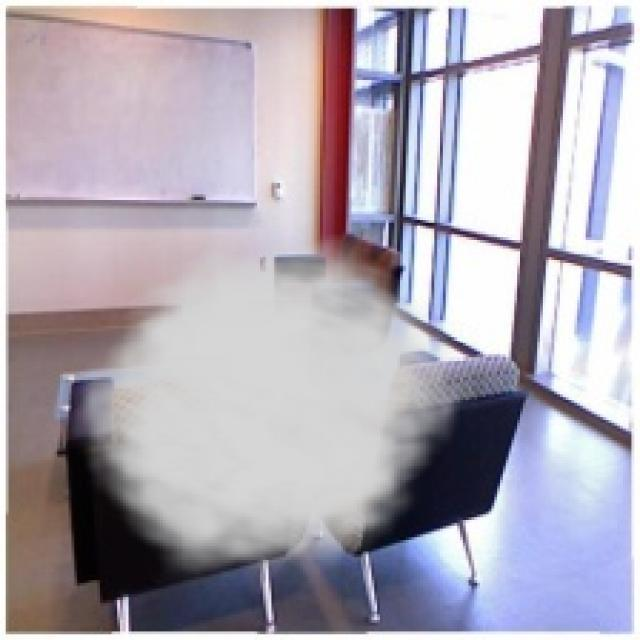Smoke: (60, 234, 477, 589)
